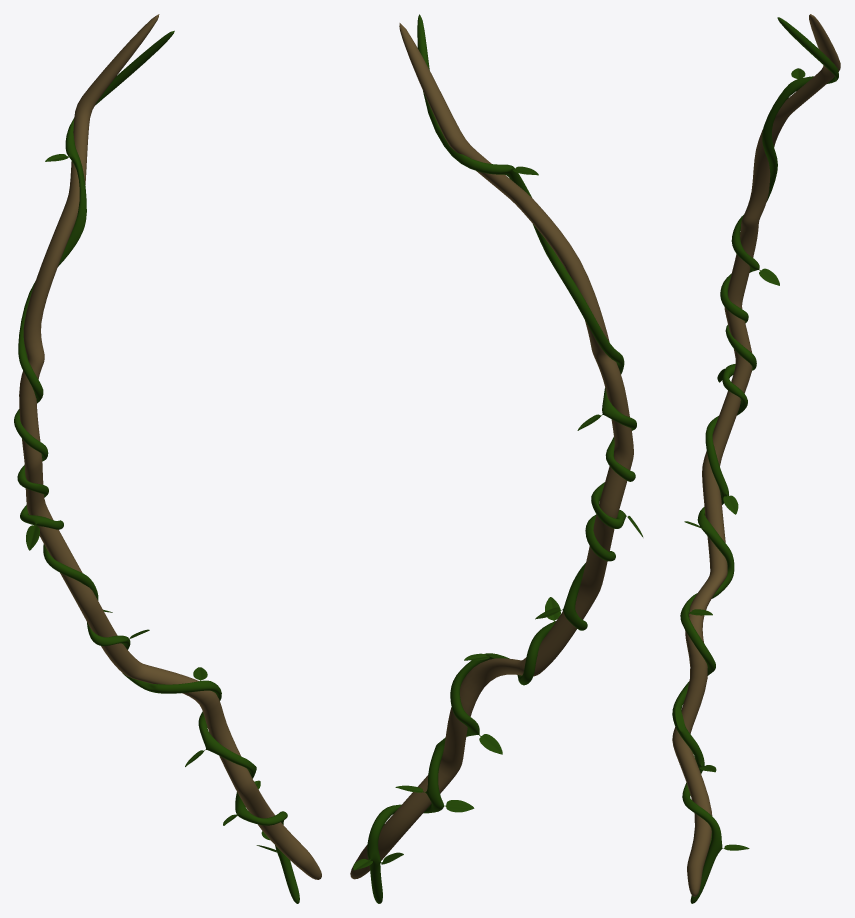
Rendered from Vine.fbx.
The picture shows the model from 3 angles, left to right: view 1: azimuth 30°, elevation 25°; view 2: azimuth 150°, elevation 25°; view 3: azimuth 270°, elevation 25°; orthographic projection. The views are drawn at different scales.
Parts seen in each view (by area): view 1: Vine_1, Vine_2; view 2: Vine_1, Vine_2; view 3: Vine_1, Vine_2.
Boxes of the visible parts, left/top/right/bottom form: Vine_1: left=19, top=14, right=321, bottom=879; Vine_2: left=14, top=30, right=299, bottom=903; Vine_1: left=350, top=23, right=633, bottom=879; Vine_2: left=353, top=14, right=643, bottom=903; Vine_1: left=672, top=14, right=840, bottom=896; Vine_2: left=672, top=17, right=838, bottom=903.
Bounding box in the file's own units: 15.21 × 44.79 × 8.02.
